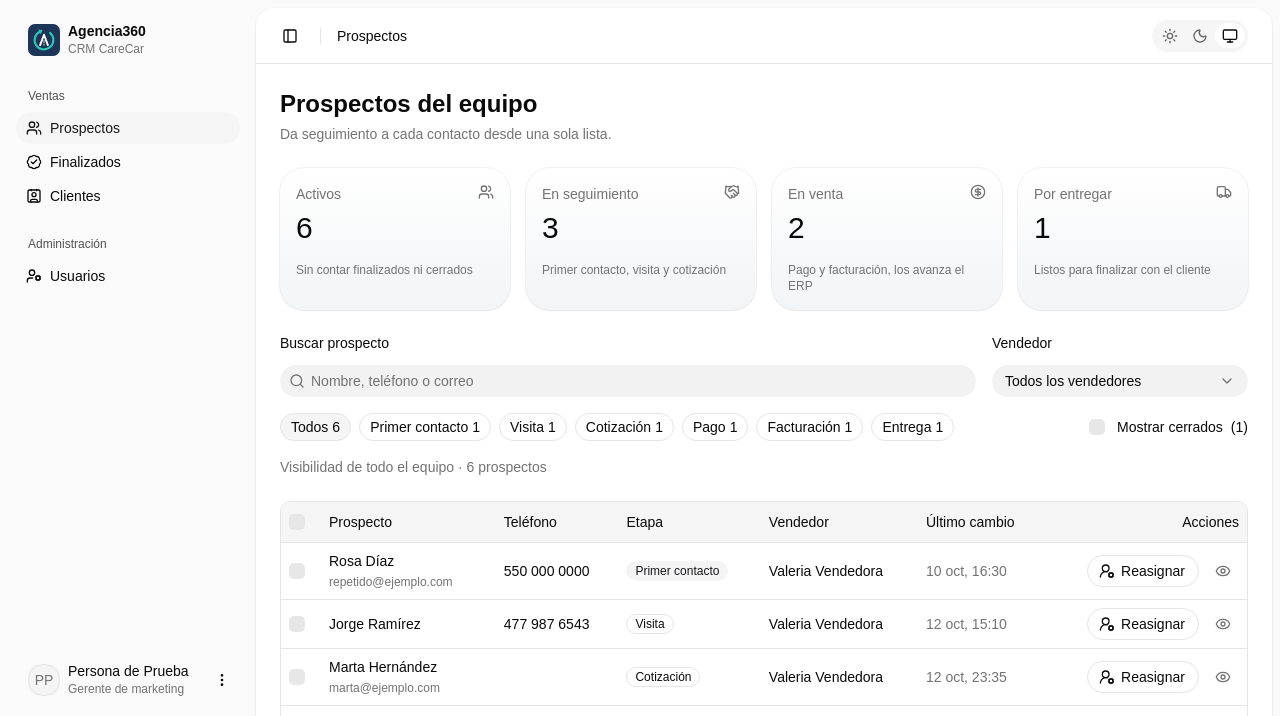
Test case: Menú de perfil (CRM-UX-2) › al abrirlo muestra el nombre, el rol y cerrar sesión
This screenshot has width=1280, height=716.
Click the button with aria-label "Perfil de Persona de Prueba": click(128, 680) [16,656,240,704]
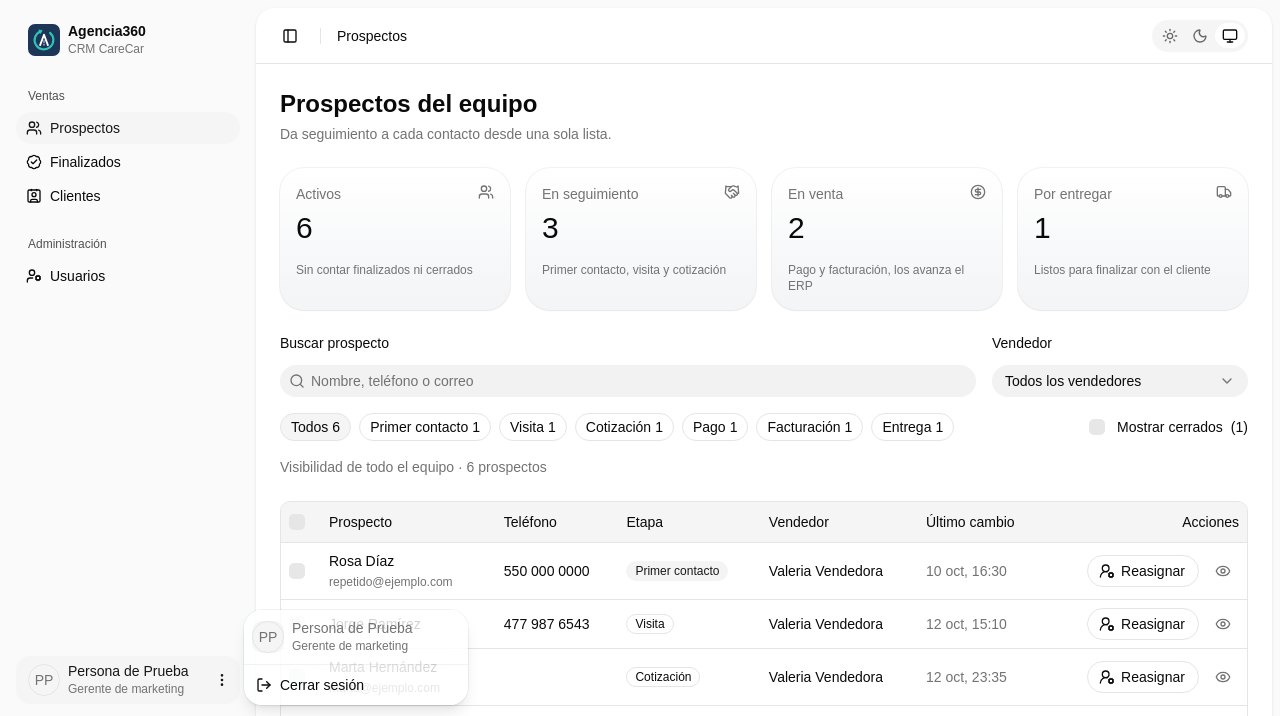
Expected: the 1st text "Persona de Prueba" is shown, [292,620,413,636]
Expected: the 1st text "Gerente de marketing" is shown, [292,638,408,652]
Click the menu item "Cerrar sesión": click(310, 684) [256,676,364,692]
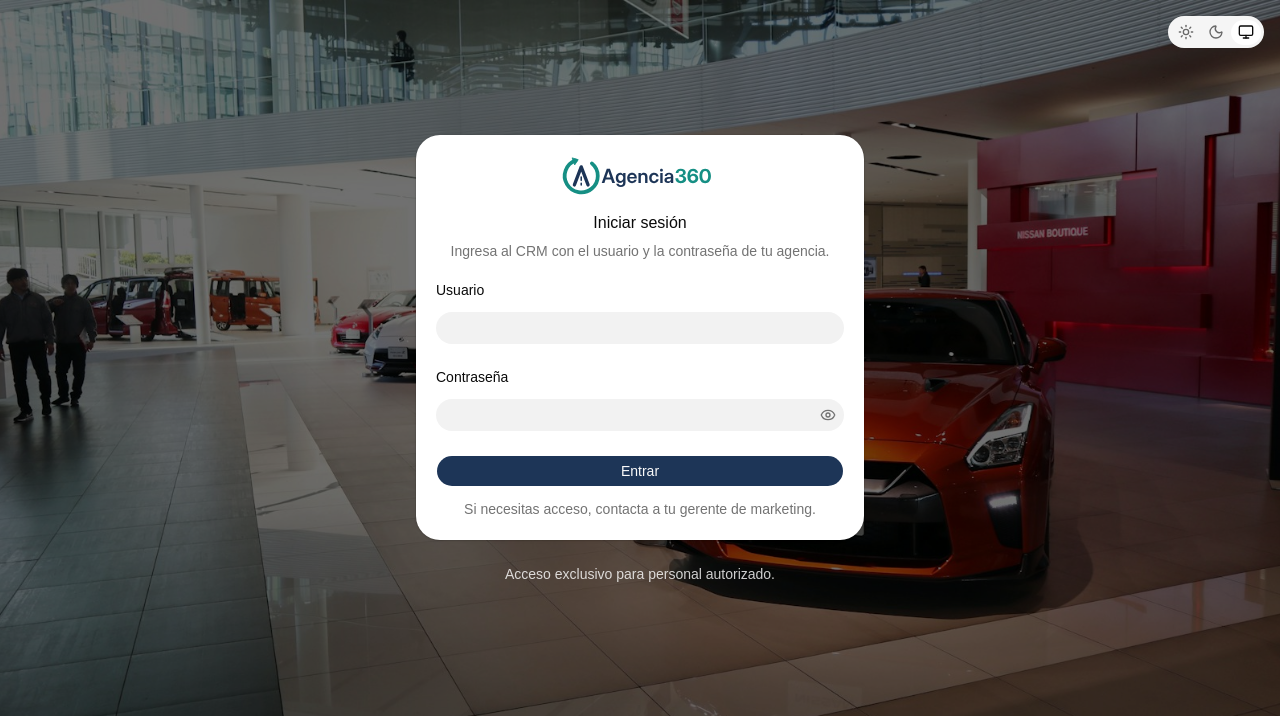
Expected: the button "Entrar" is shown, [436,456,844,488]
